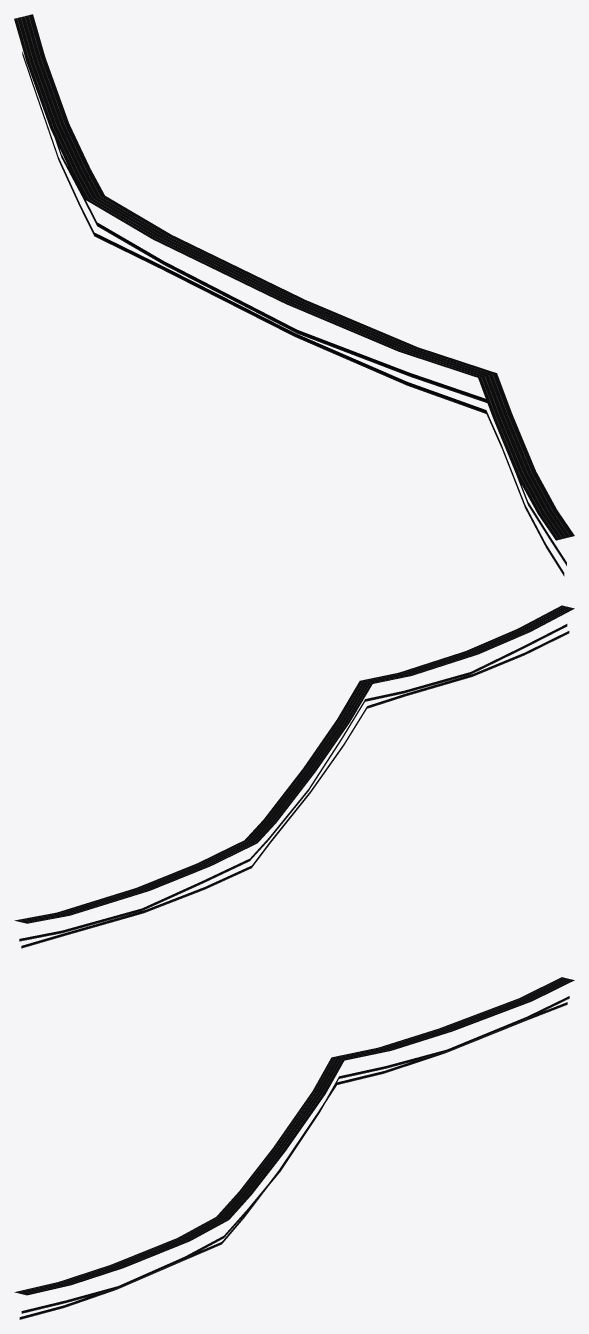
File: vgsn_telewire16.obj
3 views of the same model, one above another, from view 1: azimuth 30°, elevation 25°; view 2: azimuth 150°, elevation 25°; view 3: azimuth 330°, elevation 25° (orthographic). The views are drawn at different scales.
Visible parts, largest first — view 1: vgsN_telewire16; view 2: vgsN_telewire16; view 3: vgsN_telewire16.
Boxes of the visible parts, <box> form: vgsN_telewire16: <box>14,14,574,576</box>; vgsN_telewire16: <box>14,605,574,948</box>; vgsN_telewire16: <box>14,977,574,1319</box>.
Size of the model in its own units: 20.67 by 6.29 by 159.
1 material, 1 textured.
